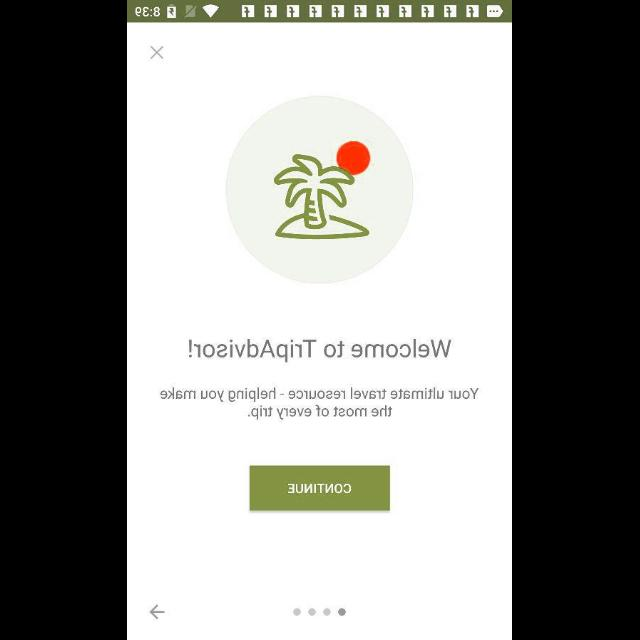icon: (150, 604, 166, 620), (151, 46, 165, 60)
image: (226, 97, 414, 285)
pageindicator: (293, 608, 347, 616)
text: (161, 386, 479, 419), (190, 338, 452, 364)
textbutton: (250, 465, 390, 511)
uppertaskbar: (128, 1, 512, 23)
